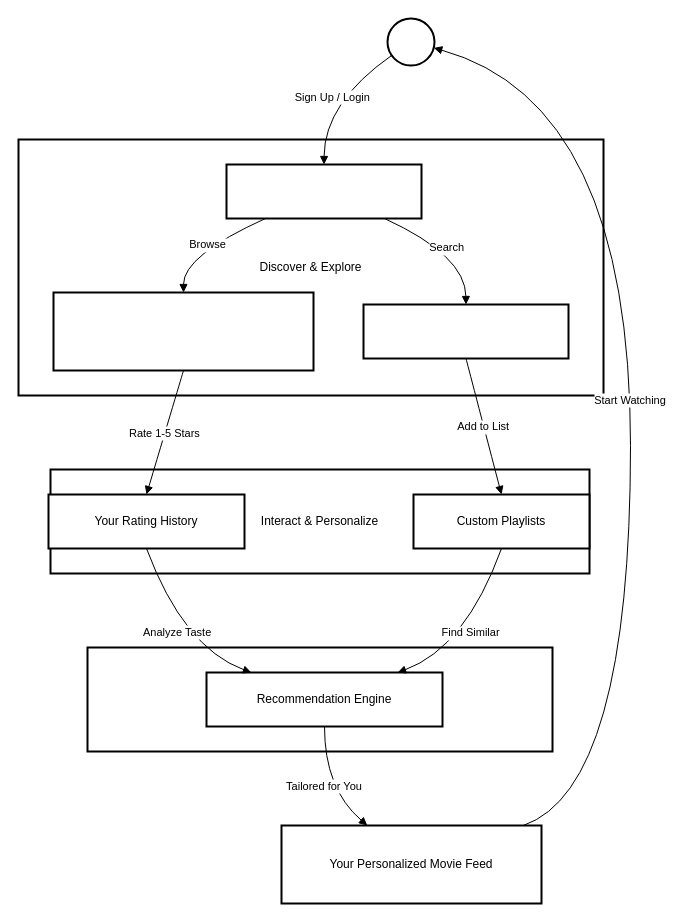
Image size: 684x921. Some labels were removed from this diagram. The centre of each missing label's shape, as x and y in pixels:
Global Movie Search: the point at 465,331
Nexus Movie Portal: the point at 323,191
Trending & Top Rated Movies: the point at 183,331
User: the point at 410,41
